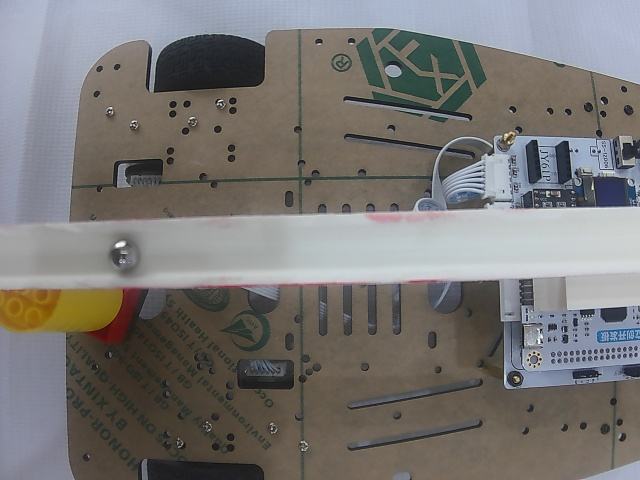steelball: (108, 237, 140, 271)
